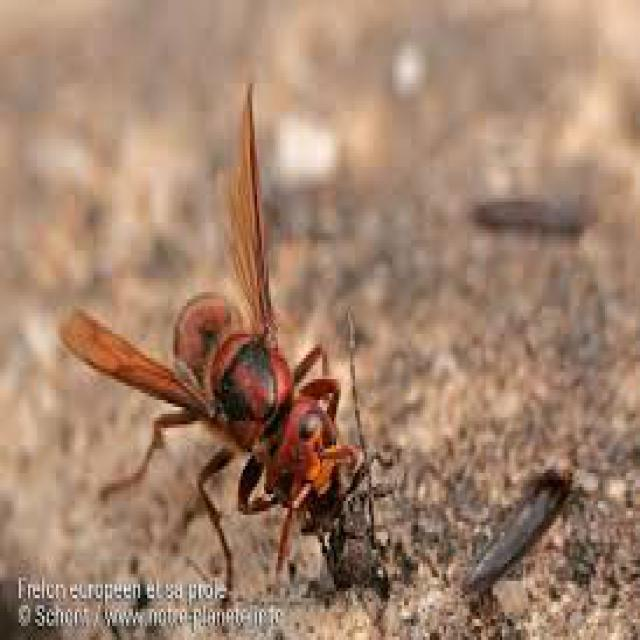Vespa Orientalis: (40, 69, 384, 603)
